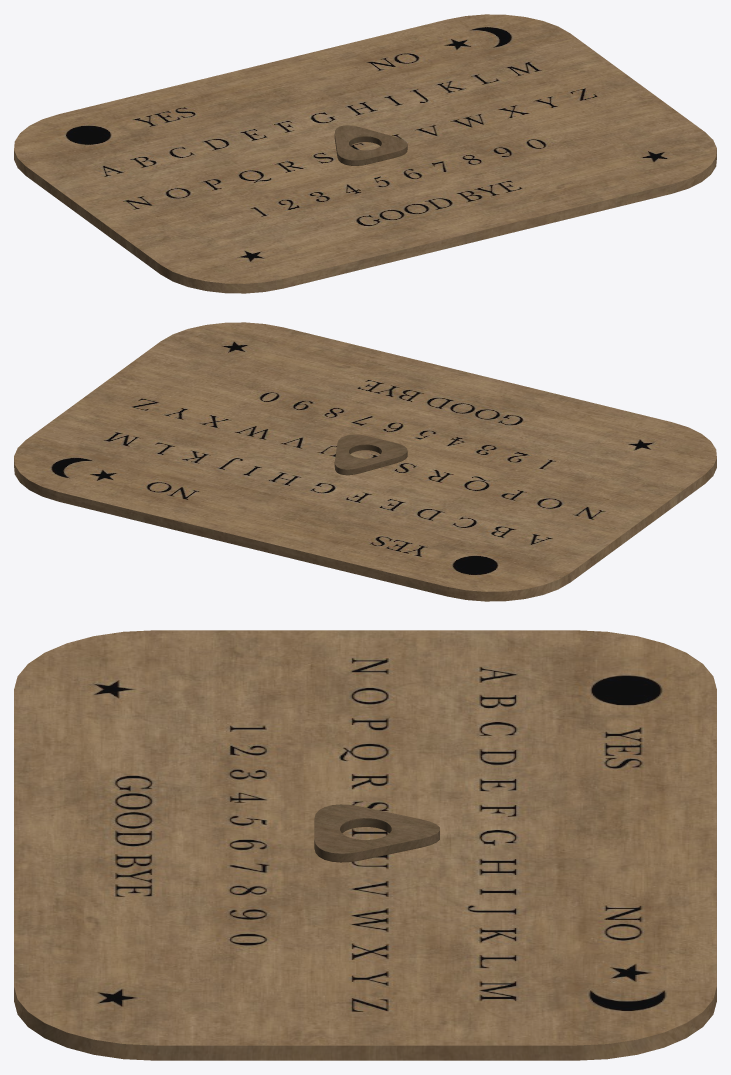
Rendered from OuijaBoard.fbx.
3 views of the same model, one above another, from view 1: azimuth 30°, elevation 25°; view 2: azimuth 150°, elevation 25°; view 3: azimuth 270°, elevation 25° (orthographic). The views are drawn at different scales.
Visible parts, largest first — view 1: Ouija Board, Planchette; view 2: Ouija Board, Planchette; view 3: Ouija Board, Planchette.
Part boxes in pixels (<box>): Ouija Board: <box>14,14,716,293</box>; Planchette: <box>334,125,407,165</box>; Ouija Board: <box>14,322,716,601</box>; Planchette: <box>334,434,407,475</box>; Ouija Board: <box>14,630,716,1060</box>; Planchette: <box>314,804,439,862</box>.
Bounding box in the file's own units: 60.56 × 1.63 × 43.33.
